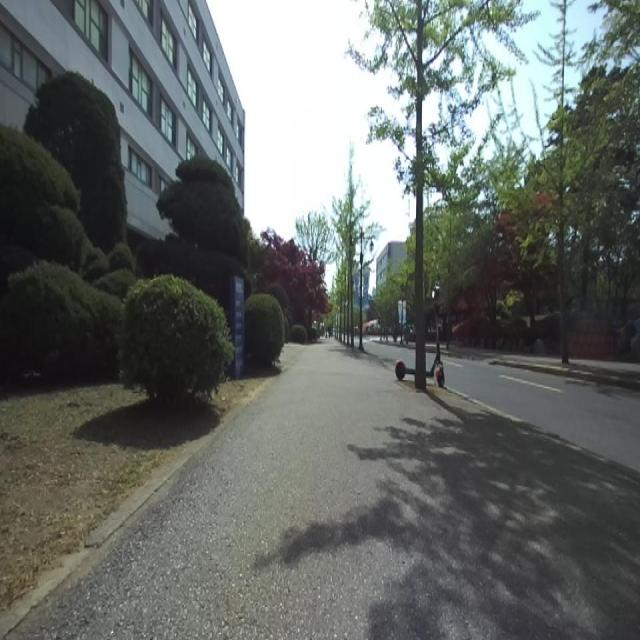sidewalk: (0, 340, 640, 640), (0, 378, 270, 639)
